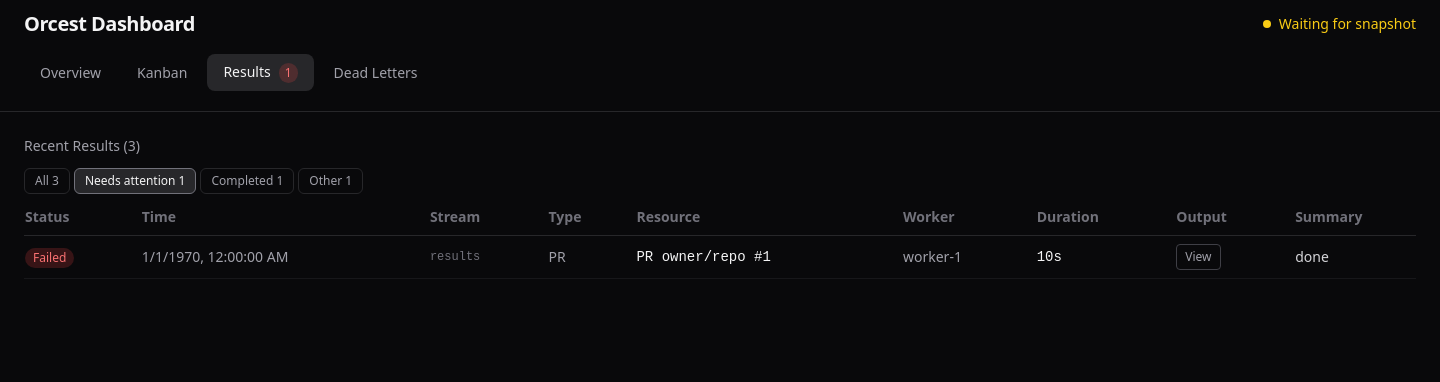
Test: App DOM tab interactions › loads and updates the Results filter through the URL
Expected: the tab named "Results 1 recent result needs attention" is shown, x1=207 y1=54 x2=314 y2=91
Expected: the column heading "PR owner/repo #1" is shown, x1=635 y1=236 x2=902 y2=278
Click the button "Completed 1" at (247, 181), box x1=200 y1=168 x2=294 y2=194
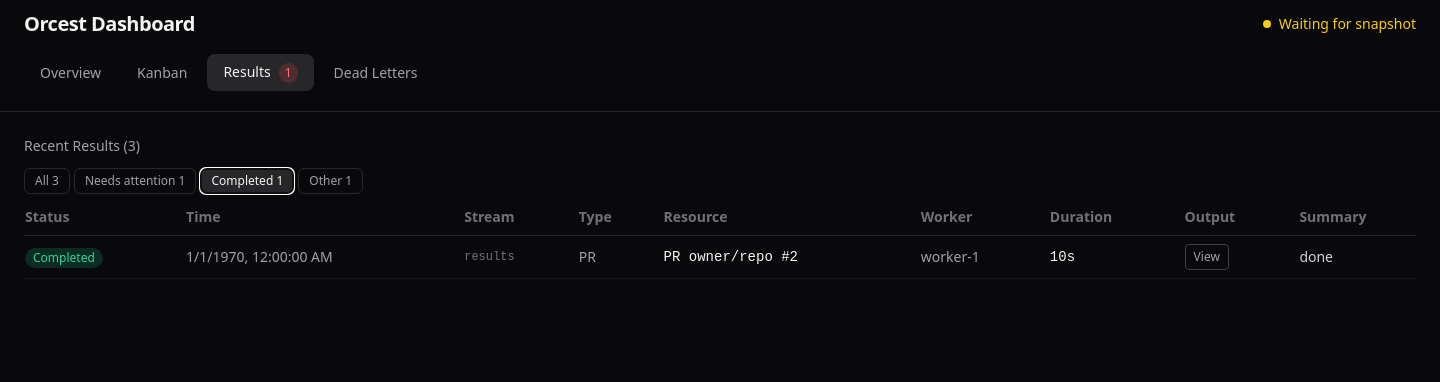
Expected: the column heading "PR owner/repo #2" is shown, x1=663 y1=236 x2=920 y2=278
Expected: the column heading "PR owner/repo #1" is gone
Click the button "All 3" at (47, 181), box x1=24 y1=168 x2=70 y2=194
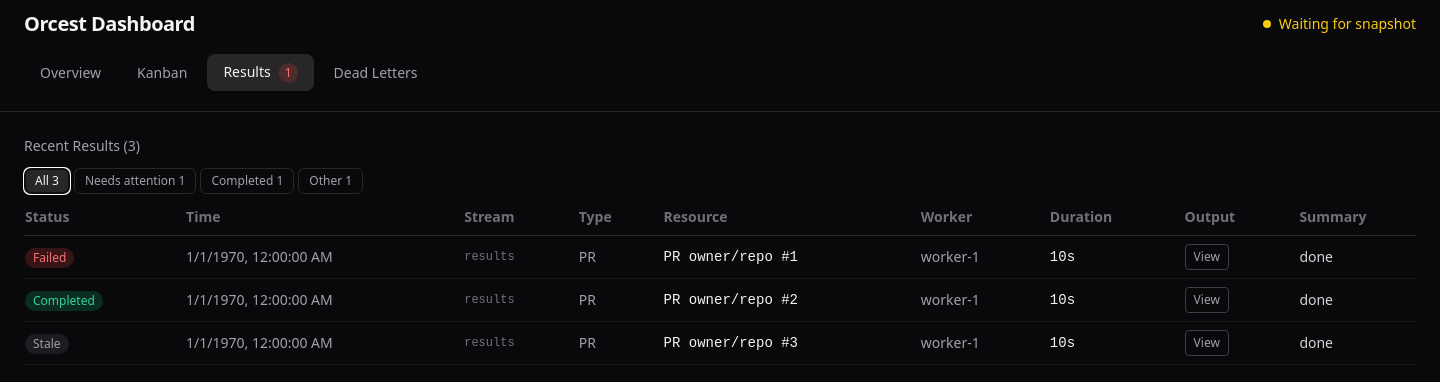
Expected: the text "results" in the row of "Failed" is shown, x1=464 y1=250 x2=515 y2=264
Expected: the column heading "PR owner/repo #2" is shown, x1=663 y1=278 x2=920 y2=322
Expected: the column heading "PR owner/repo #1" is shown, x1=663 y1=236 x2=920 y2=278
